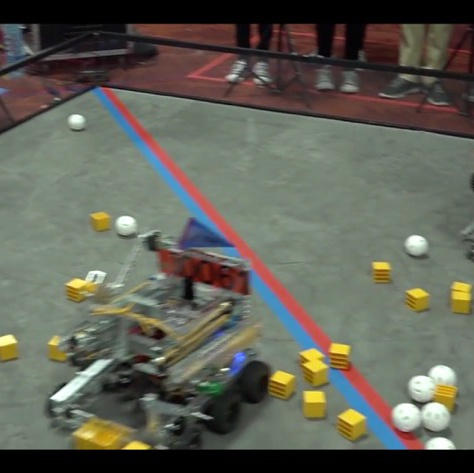robot: (45, 213, 275, 448)
